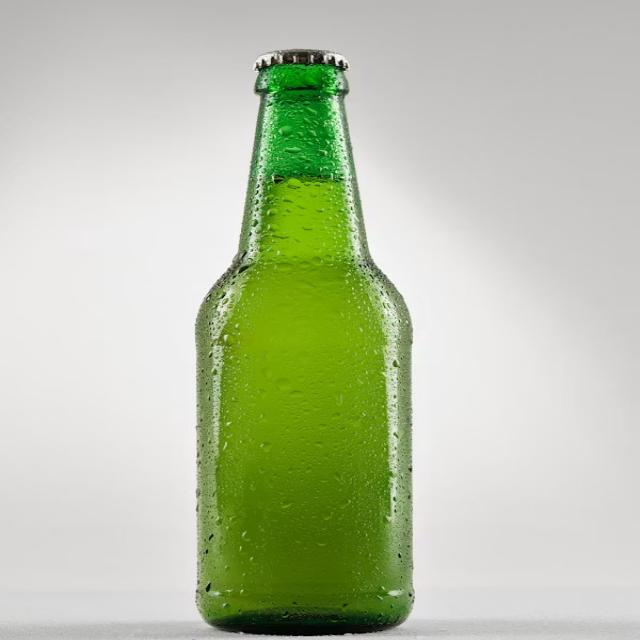Bottle: (197, 50, 412, 634)
